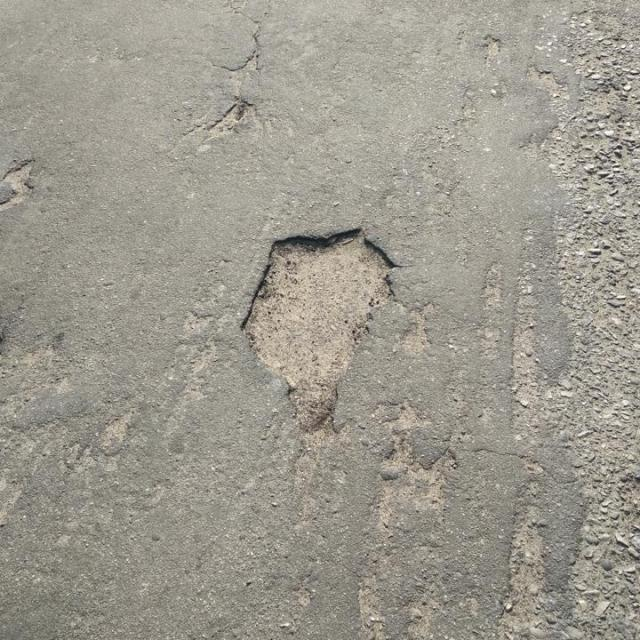road-pothole: (236, 219, 397, 435)
